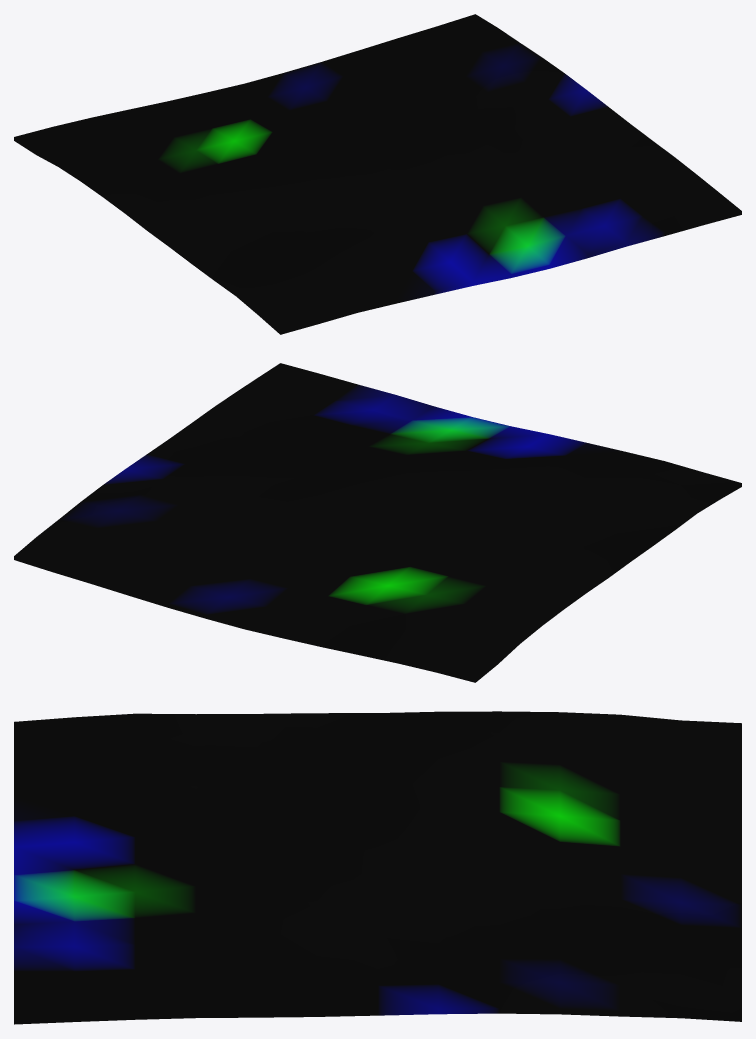
Rendered from coast_8_4.glb.
The picture shows the model from 3 angles, top to bottom: view 1: azimuth 30°, elevation 25°; view 2: azimuth 150°, elevation 25°; view 3: azimuth 270°, elevation 25°; orthographic projection. The views are drawn at different scales.
Visible parts, largest first — view 1: terrain; view 2: terrain; view 3: terrain.
Boxes of the visible parts, x1=… form: terrain: x1=14, y1=14, x2=741, y2=334; terrain: x1=14, y1=363, x2=741, y2=682; terrain: x1=14, y1=711, x2=741, y2=1024.
Bounding box in the file's own units: 192 × 9.25 × 192.
